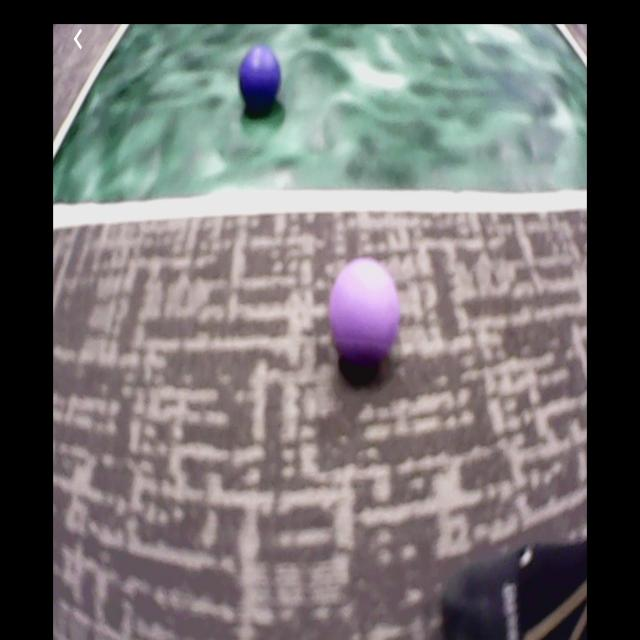ball: (330, 258, 399, 359), (240, 45, 281, 107)
